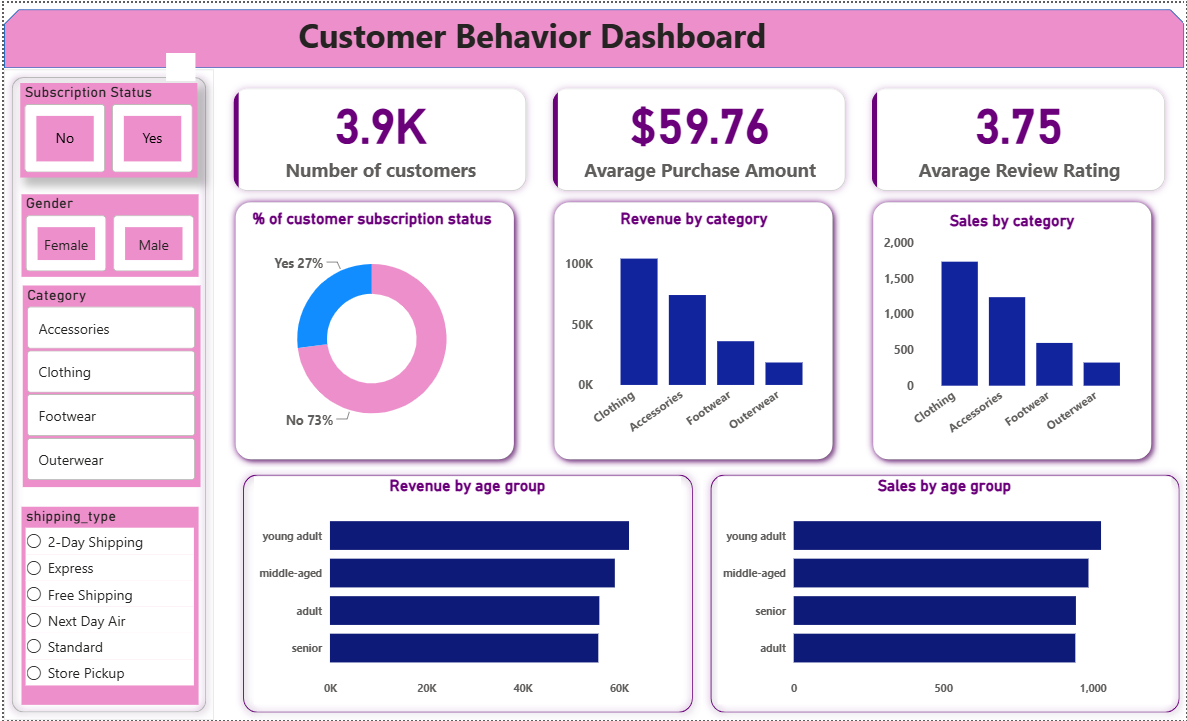

The dashboard page shown, as its layout file describes it:
{"tool":"powerbi","page":{"name":"Page 1","canvas":[1352,820],"ordinal":0},"visuals":[{"type":"cardVisual","fields":{"Data":["yashu customer_shopping_behavior_cleaned.Number of customers","yashu customer_shopping_behavior_cleaned.Avarage Purchase Amount","yashu customer_shopping_behavior_cleaned.Avarage Review Rating"]},"box":[240,75,1110,161.2],"z":0},{"type":"shape","box":[0,7.5,1350,67.5],"z":1000},{"type":"textbox","box":[331.2,7.5,610,67.5],"z":2000},{"type":"shape","box":[256,218,336,312],"z":3000},{"type":"donutChart","title":"% of customer subscription status","fields":{"Category":["yashu customer_shopping_behavior_cleaned.subscription_status"],"Y":["CountNonNull(yashu customer_shopping_behavior_cleaned.customer_id)"]},"box":[268,236,304,276],"z":4000},{"type":"shape","box":[984,218,336,312],"z":5000},{"type":"shape","box":[620,218,336,312],"z":6000},{"type":"clusteredColumnChart","title":"Revenue by category","fields":{"Y":["Sum(yashu customer_shopping_behavior_cleaned.purchase_amount)"],"Category":["yashu customer_shopping_behavior_cleaned.category"]},"box":[636,236,306,276],"z":7000},{"type":"clusteredColumnChart","title":"Sales by category","fields":{"Y":["CountNonNull(yashu customer_shopping_behavior_cleaned.customer_id)"],"Category":["yashu customer_shopping_behavior_cleaned.category"]},"box":[1000,238,304,274],"z":8000},{"type":"shape","box":[0,76,240,744],"z":9000},{"type":"advancedSlicerVisual","fields":{"Values":["yashu customer_shopping_behavior_cleaned.subscription_status"]},"box":[18,92,202,108],"z":10000},{"type":"advancedSlicerVisual","fields":{"Values":["yashu customer_shopping_behavior_cleaned.gender"]},"box":[20,218,202,94],"z":11000},{"type":"advancedSlicerVisual","fields":{"Values":["yashu customer_shopping_behavior_cleaned.category"]},"box":[21.4,322.9,202.9,218.6],"z":12000},{"type":"listSlicer","fields":{"Values":["yashu customer_shopping_behavior_cleaned.shipping_type"]},"box":[20,576,202,226],"z":13000},{"type":"shape","box":[264,530,532,290],"z":14000},{"type":"shape","box":[798,530,554,290],"z":15000},{"type":"clusteredBarChart","title":"Sales by age group","fields":{"Y":["CountNonNull(yashu customer_shopping_behavior_cleaned.customer_id)"],"Category":["yashu customer_shopping_behavior_cleaned.age_group"]},"box":[816,542,518,260],"z":16000},{"type":"clusteredBarChart","title":"Revenue by age group","fields":{"Y":["Sum(yashu customer_shopping_behavior_cleaned.purchase_amount)"],"Category":["yashu customer_shopping_behavior_cleaned.age_group"]},"box":[286,542,488,260],"z":17000}]}

Visuals, with their boxes in screenshot pixels (x1, y1, x2, y2), scaled from the page's 1352x820 canvas onto the 1187x721 screenshot:
cardVisual - yashu customer_shopping_behavior_cleaned.Number of customers x yashu customer_shopping_behavior_cleaned.Avarage Purchase Amount: (211, 66, 1185, 208)
shape: (0, 7, 1185, 66)
textbox: (291, 7, 826, 66)
shape: (225, 192, 520, 466)
"% of customer subscription status" donutChart: (235, 208, 502, 450)
shape: (864, 192, 1159, 466)
shape: (544, 192, 839, 466)
"Revenue by category" clusteredColumnChart: (558, 208, 827, 450)
"Sales by category" clusteredColumnChart: (878, 209, 1145, 450)
shape: (0, 67, 211, 720)
advancedSlicerVisual - yashu customer_shopping_behavior_cleaned.subscription_status: (16, 81, 193, 176)
advancedSlicerVisual - yashu customer_shopping_behavior_cleaned.gender: (18, 192, 195, 274)
advancedSlicerVisual - yashu customer_shopping_behavior_cleaned.category: (19, 284, 197, 476)
listSlicer - yashu customer_shopping_behavior_cleaned.shipping_type: (18, 506, 195, 705)
shape: (232, 466, 699, 720)
shape: (701, 466, 1186, 720)
"Sales by age group" clusteredBarChart: (716, 477, 1171, 705)
"Revenue by age group" clusteredBarChart: (251, 477, 680, 705)
